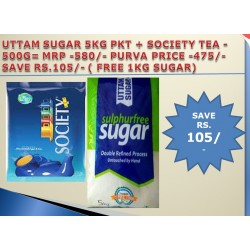society: (4, 81, 87, 181)
